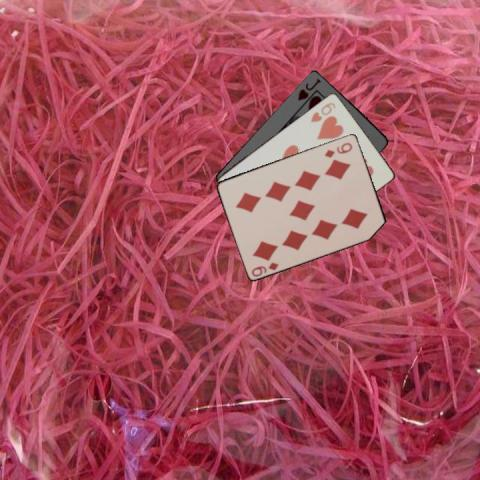6h: (308, 100, 338, 124)
9d: (322, 139, 354, 159), (249, 259, 280, 278)
Jh: (295, 75, 322, 102)
